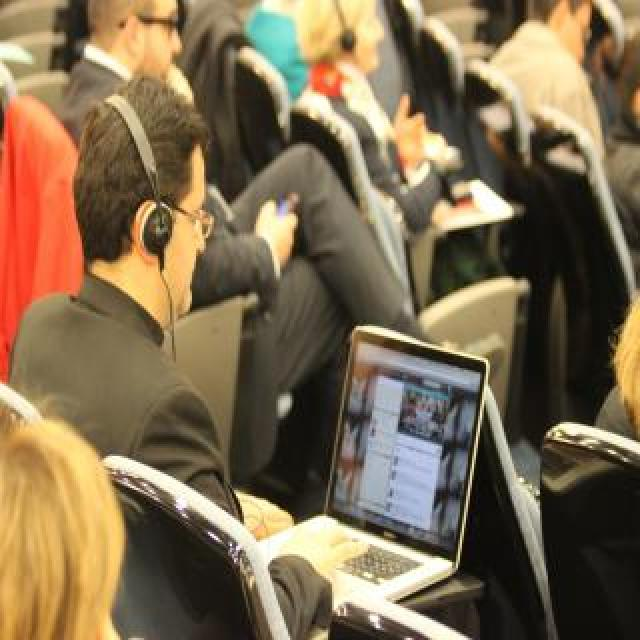earphone: (99, 84, 192, 294)
laptop_computer: (225, 320, 523, 629)
